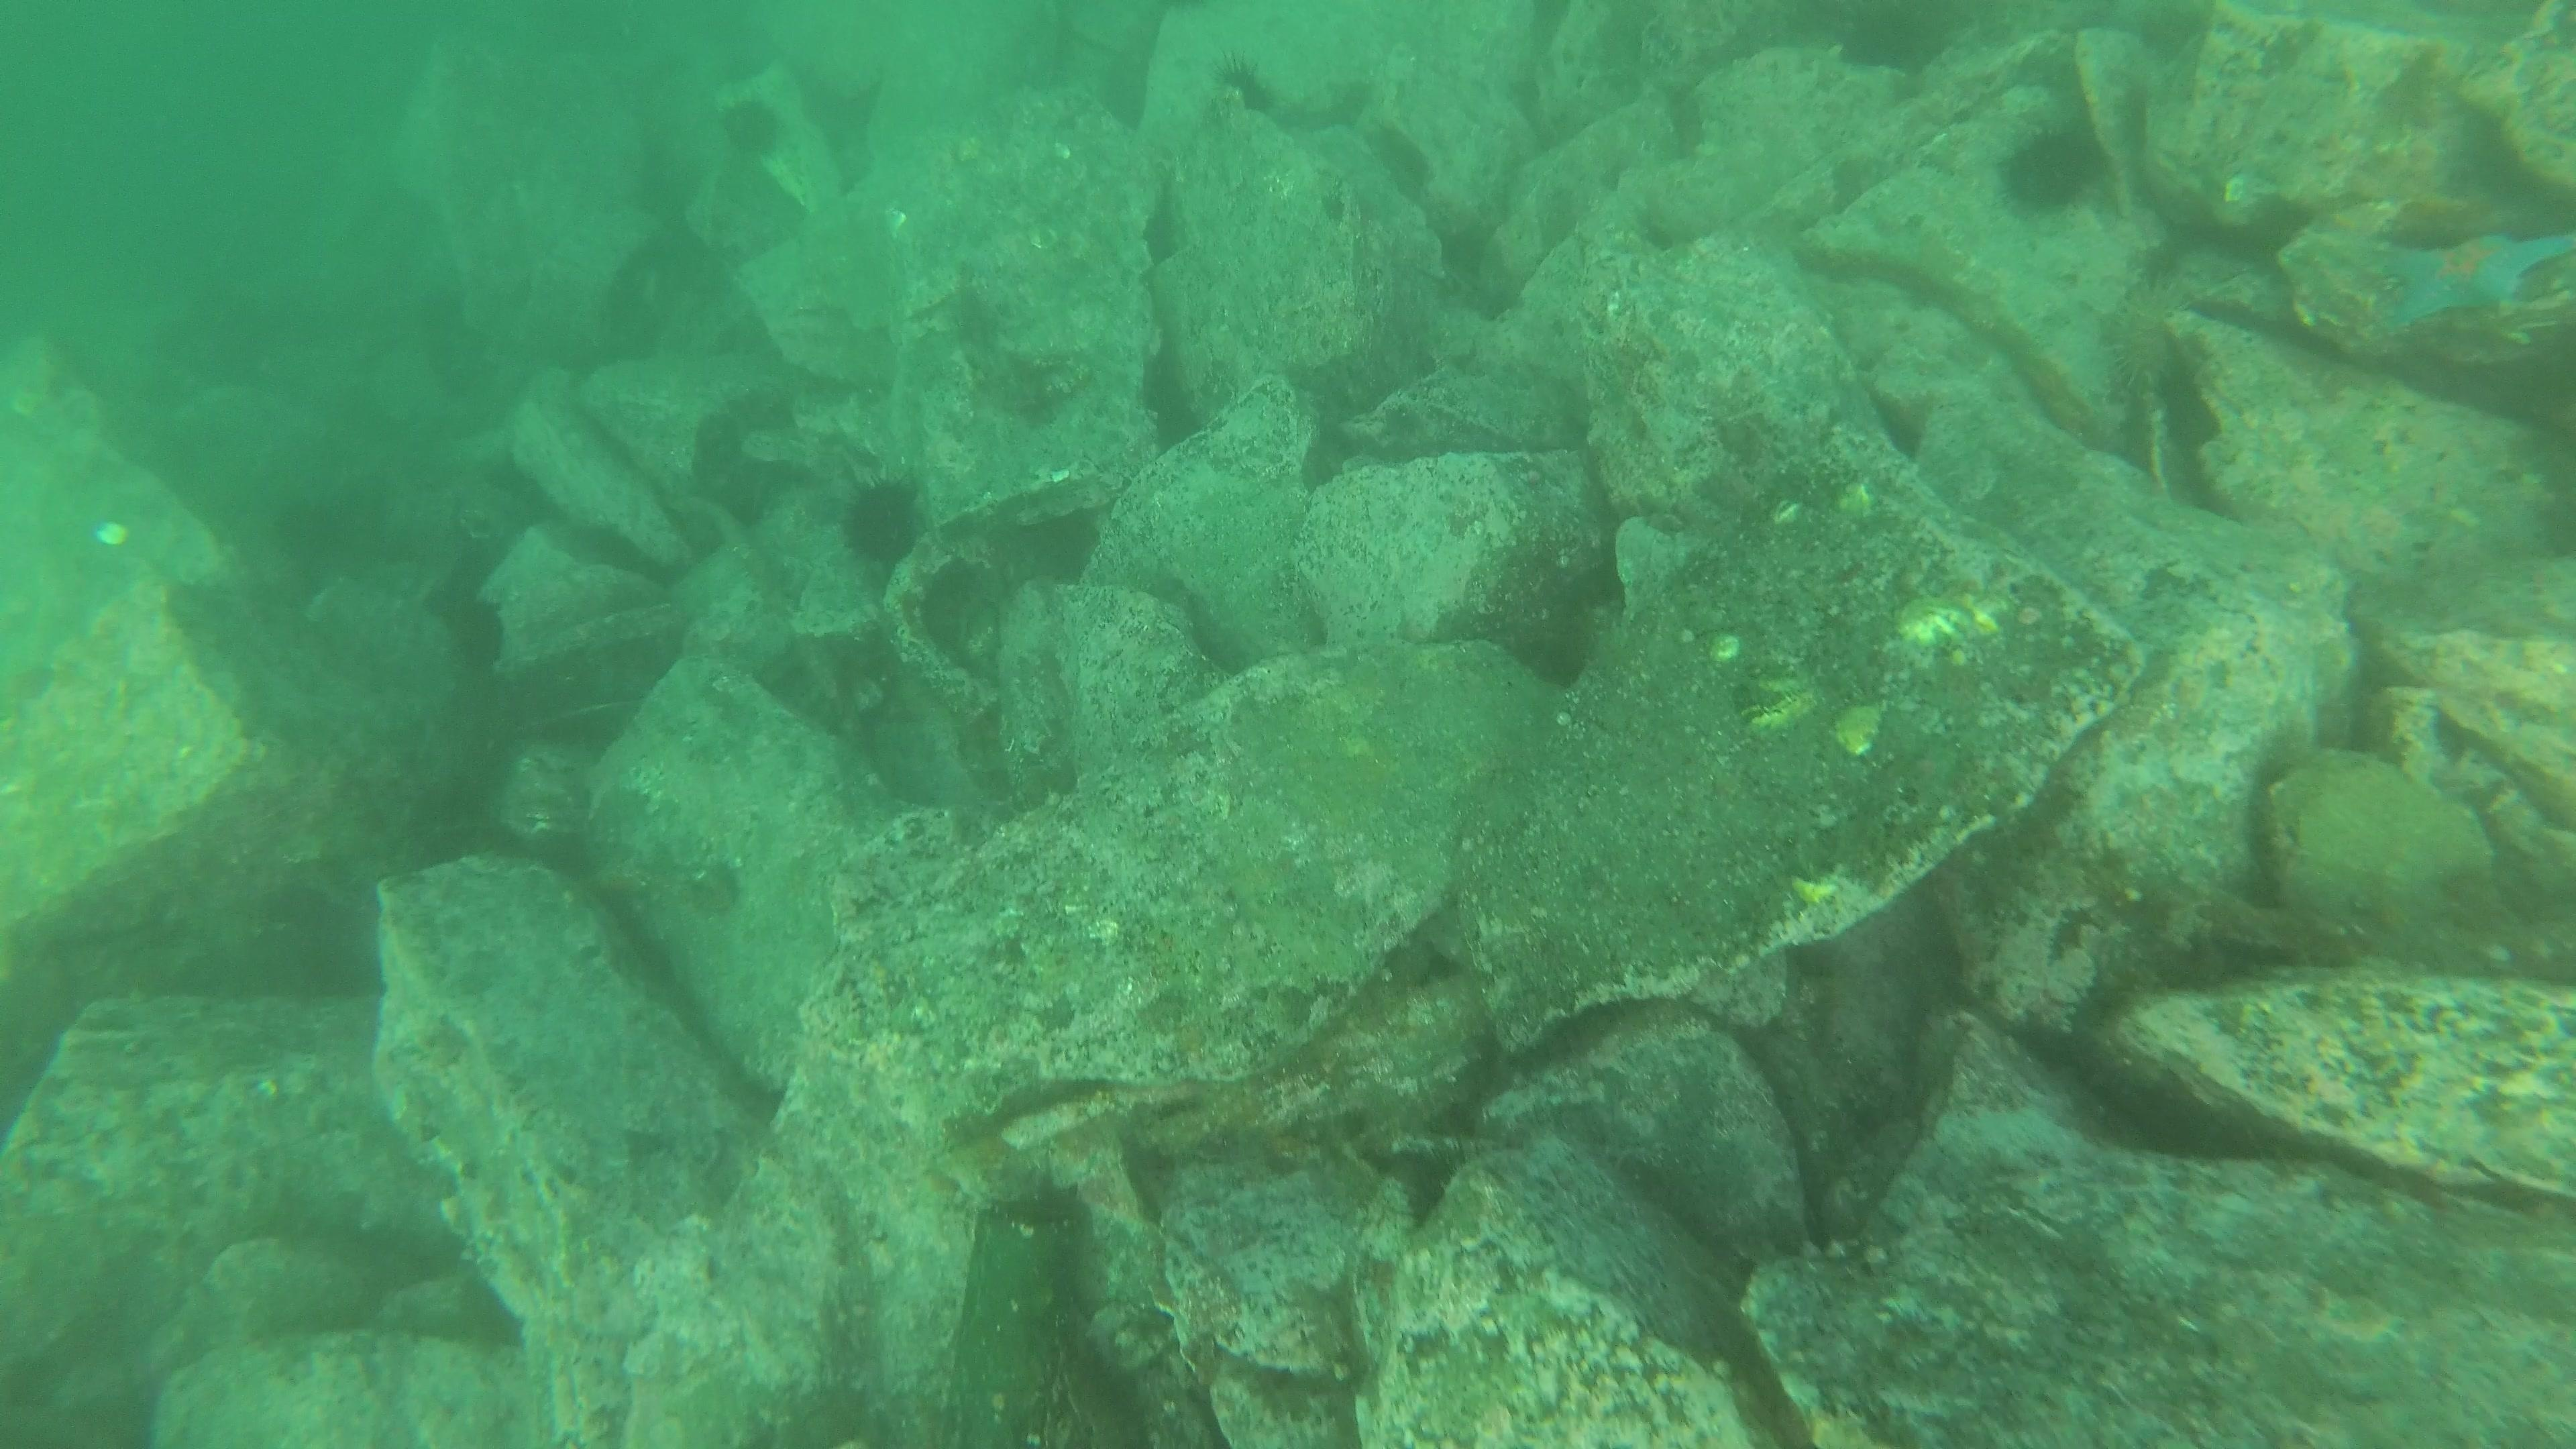echinus: (2095, 287, 2204, 409), (1994, 117, 2109, 223), (833, 469, 932, 573), (711, 88, 789, 166), (1208, 44, 1288, 103)
starfish: (2376, 216, 2571, 336)
